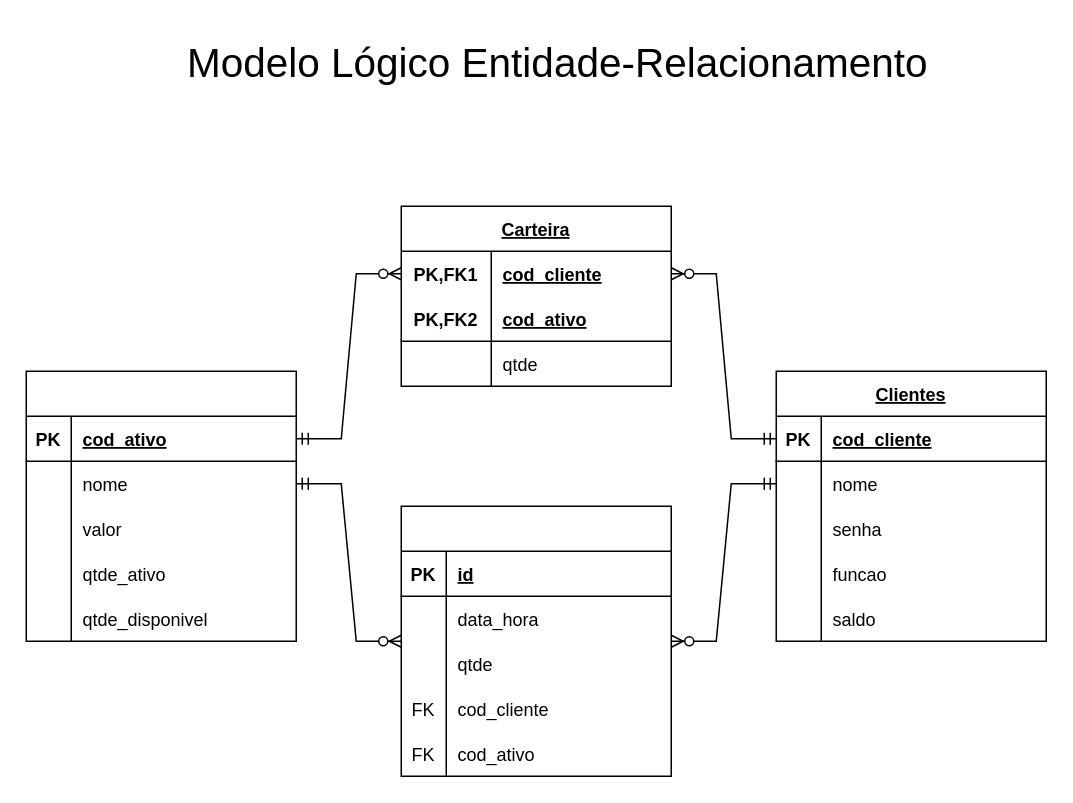
Image size: 1073x803. Some labels were removed from this diagram. The shapes that lost their labels are listed below. From the top down, each one's box as (x1, y1, x2, y2) in pixels, then its label:
(25, 370, 296, 641): Ativos
(400, 505, 671, 776): Operações
